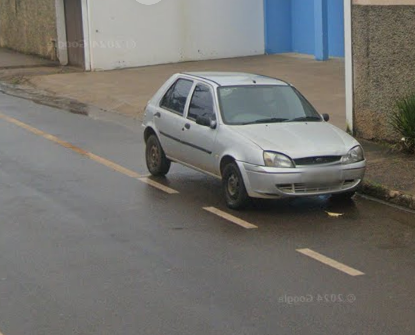car: (138, 68, 371, 214)
